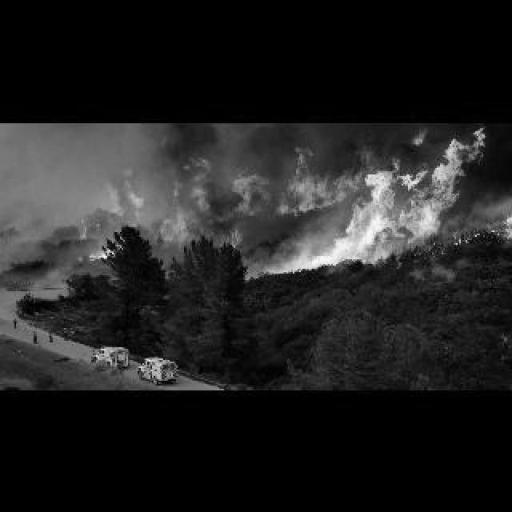smoke: (83, 128, 488, 277)
